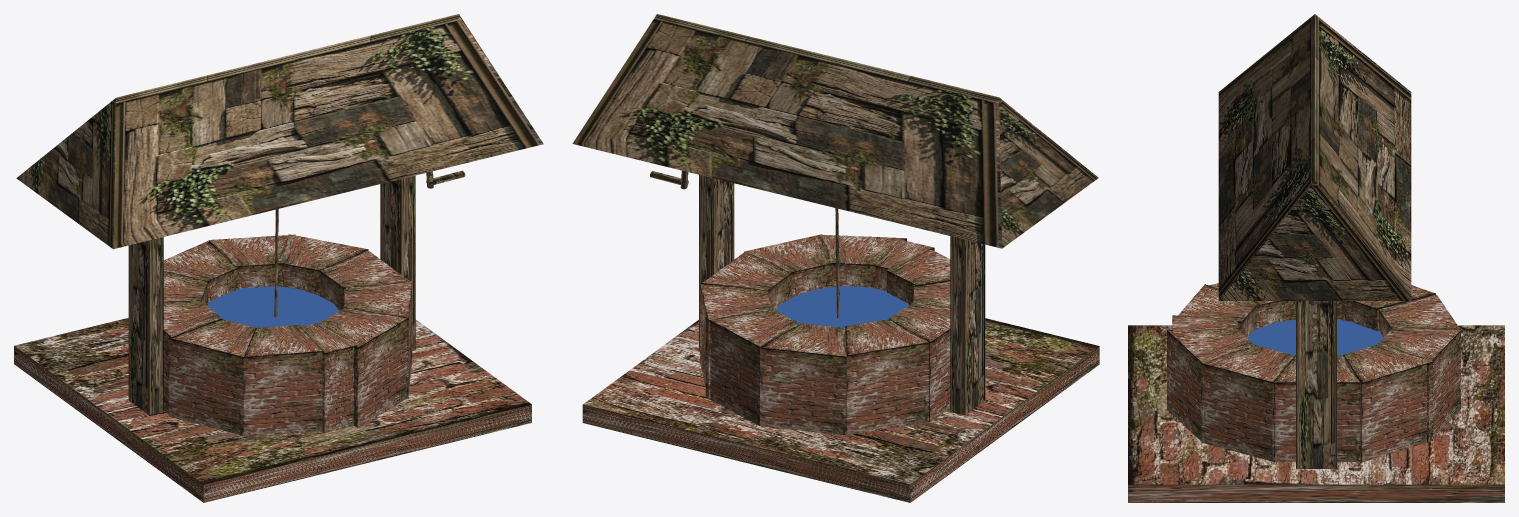
The model's file is well.glb.
3 views of the same model, side by side, from view 1: azimuth 30°, elevation 25°; view 2: azimuth 150°, elevation 25°; view 3: azimuth 270°, elevation 25° (orthographic).
Visible parts, largest first — view 1: well; view 2: well; view 3: well.
Boxes of the visible parts, x1,y1,x2,y2 form: well: (14,14,543,502); well: (572,14,1099,502); well: (1128,14,1504,502).
Bounding box in the file's own units: 1 × 0.7431 × 0.7624.
Materials: 8 (7 with a texture image).
